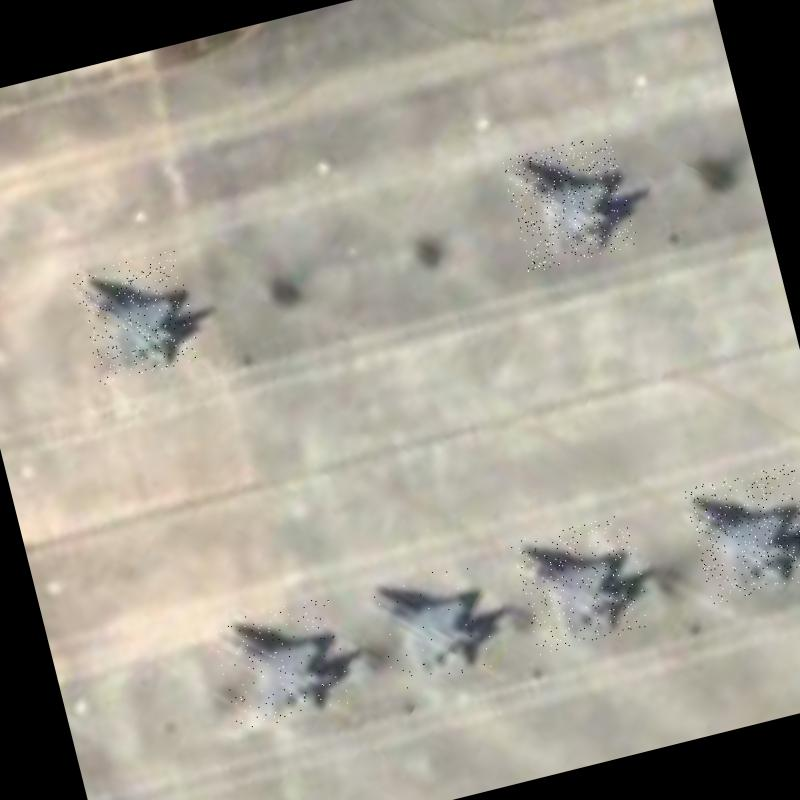A13: (510, 512, 656, 656), (211, 594, 354, 734), (500, 132, 639, 273), (369, 558, 504, 691), (71, 249, 202, 386), (682, 460, 800, 604)
